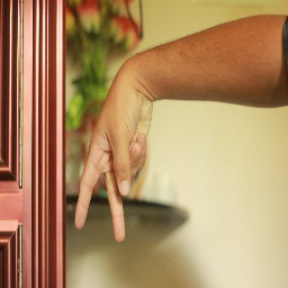Y: (69, 90, 154, 240)
